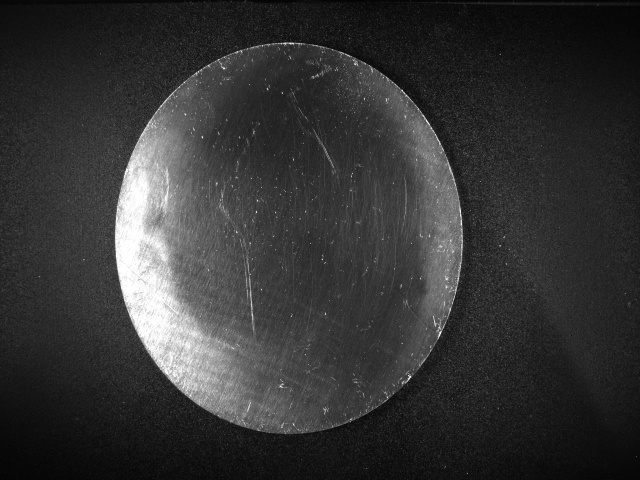ca_shang: (226, 199, 258, 340), (299, 105, 345, 191)
